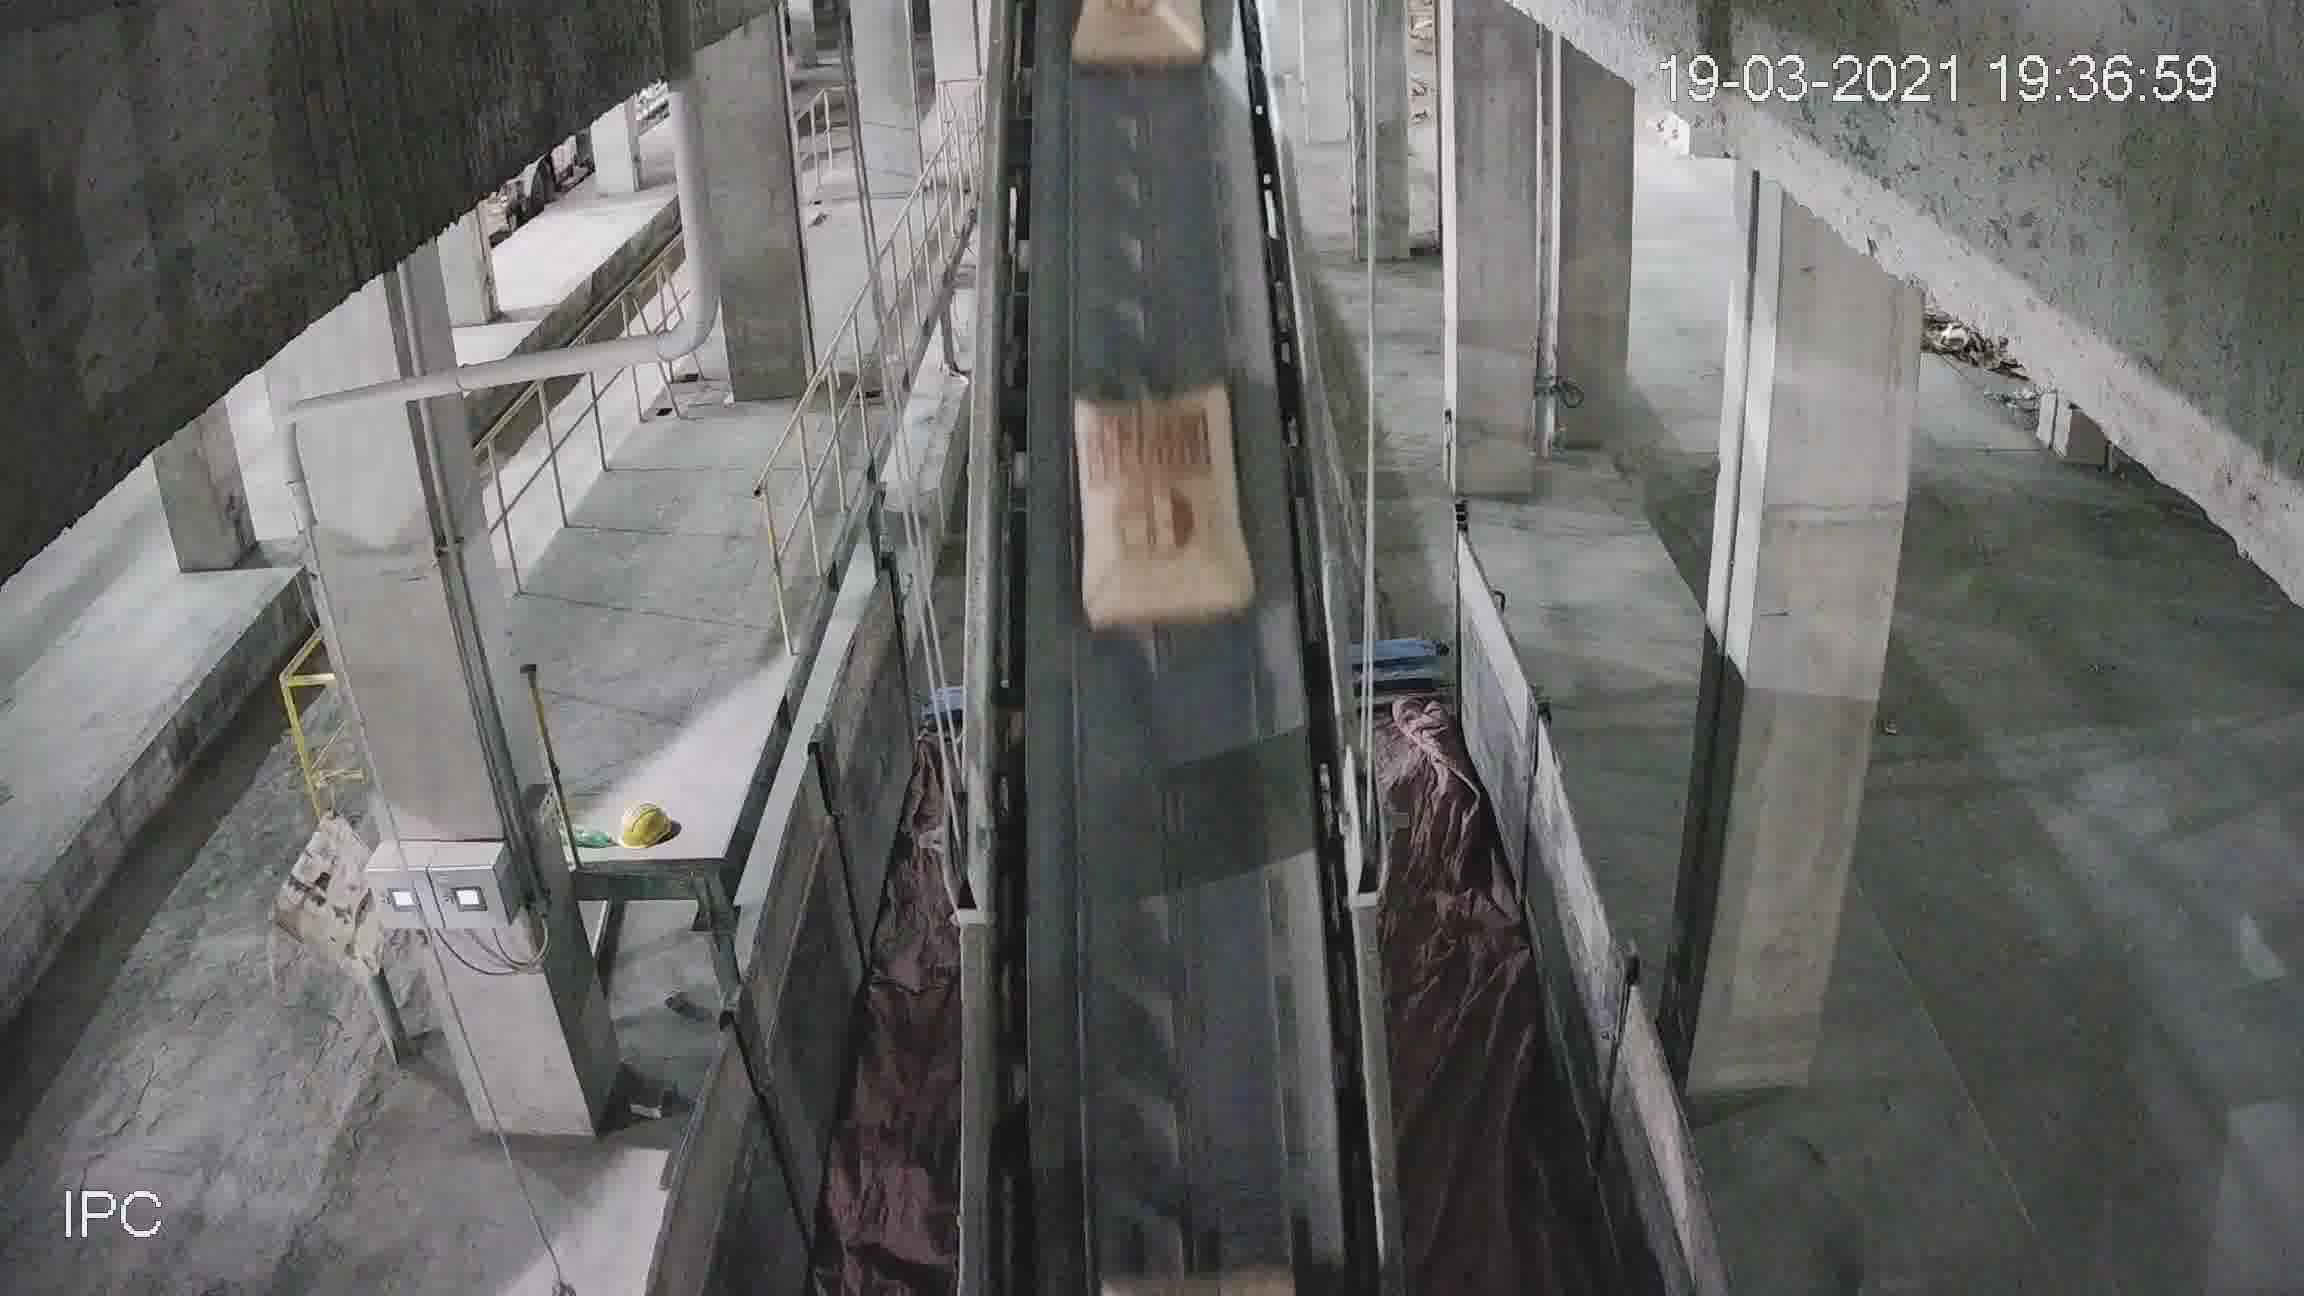bag: (1073, 381, 1244, 627), (1070, 9, 1215, 65)
belt: (937, 19, 1374, 1157)
